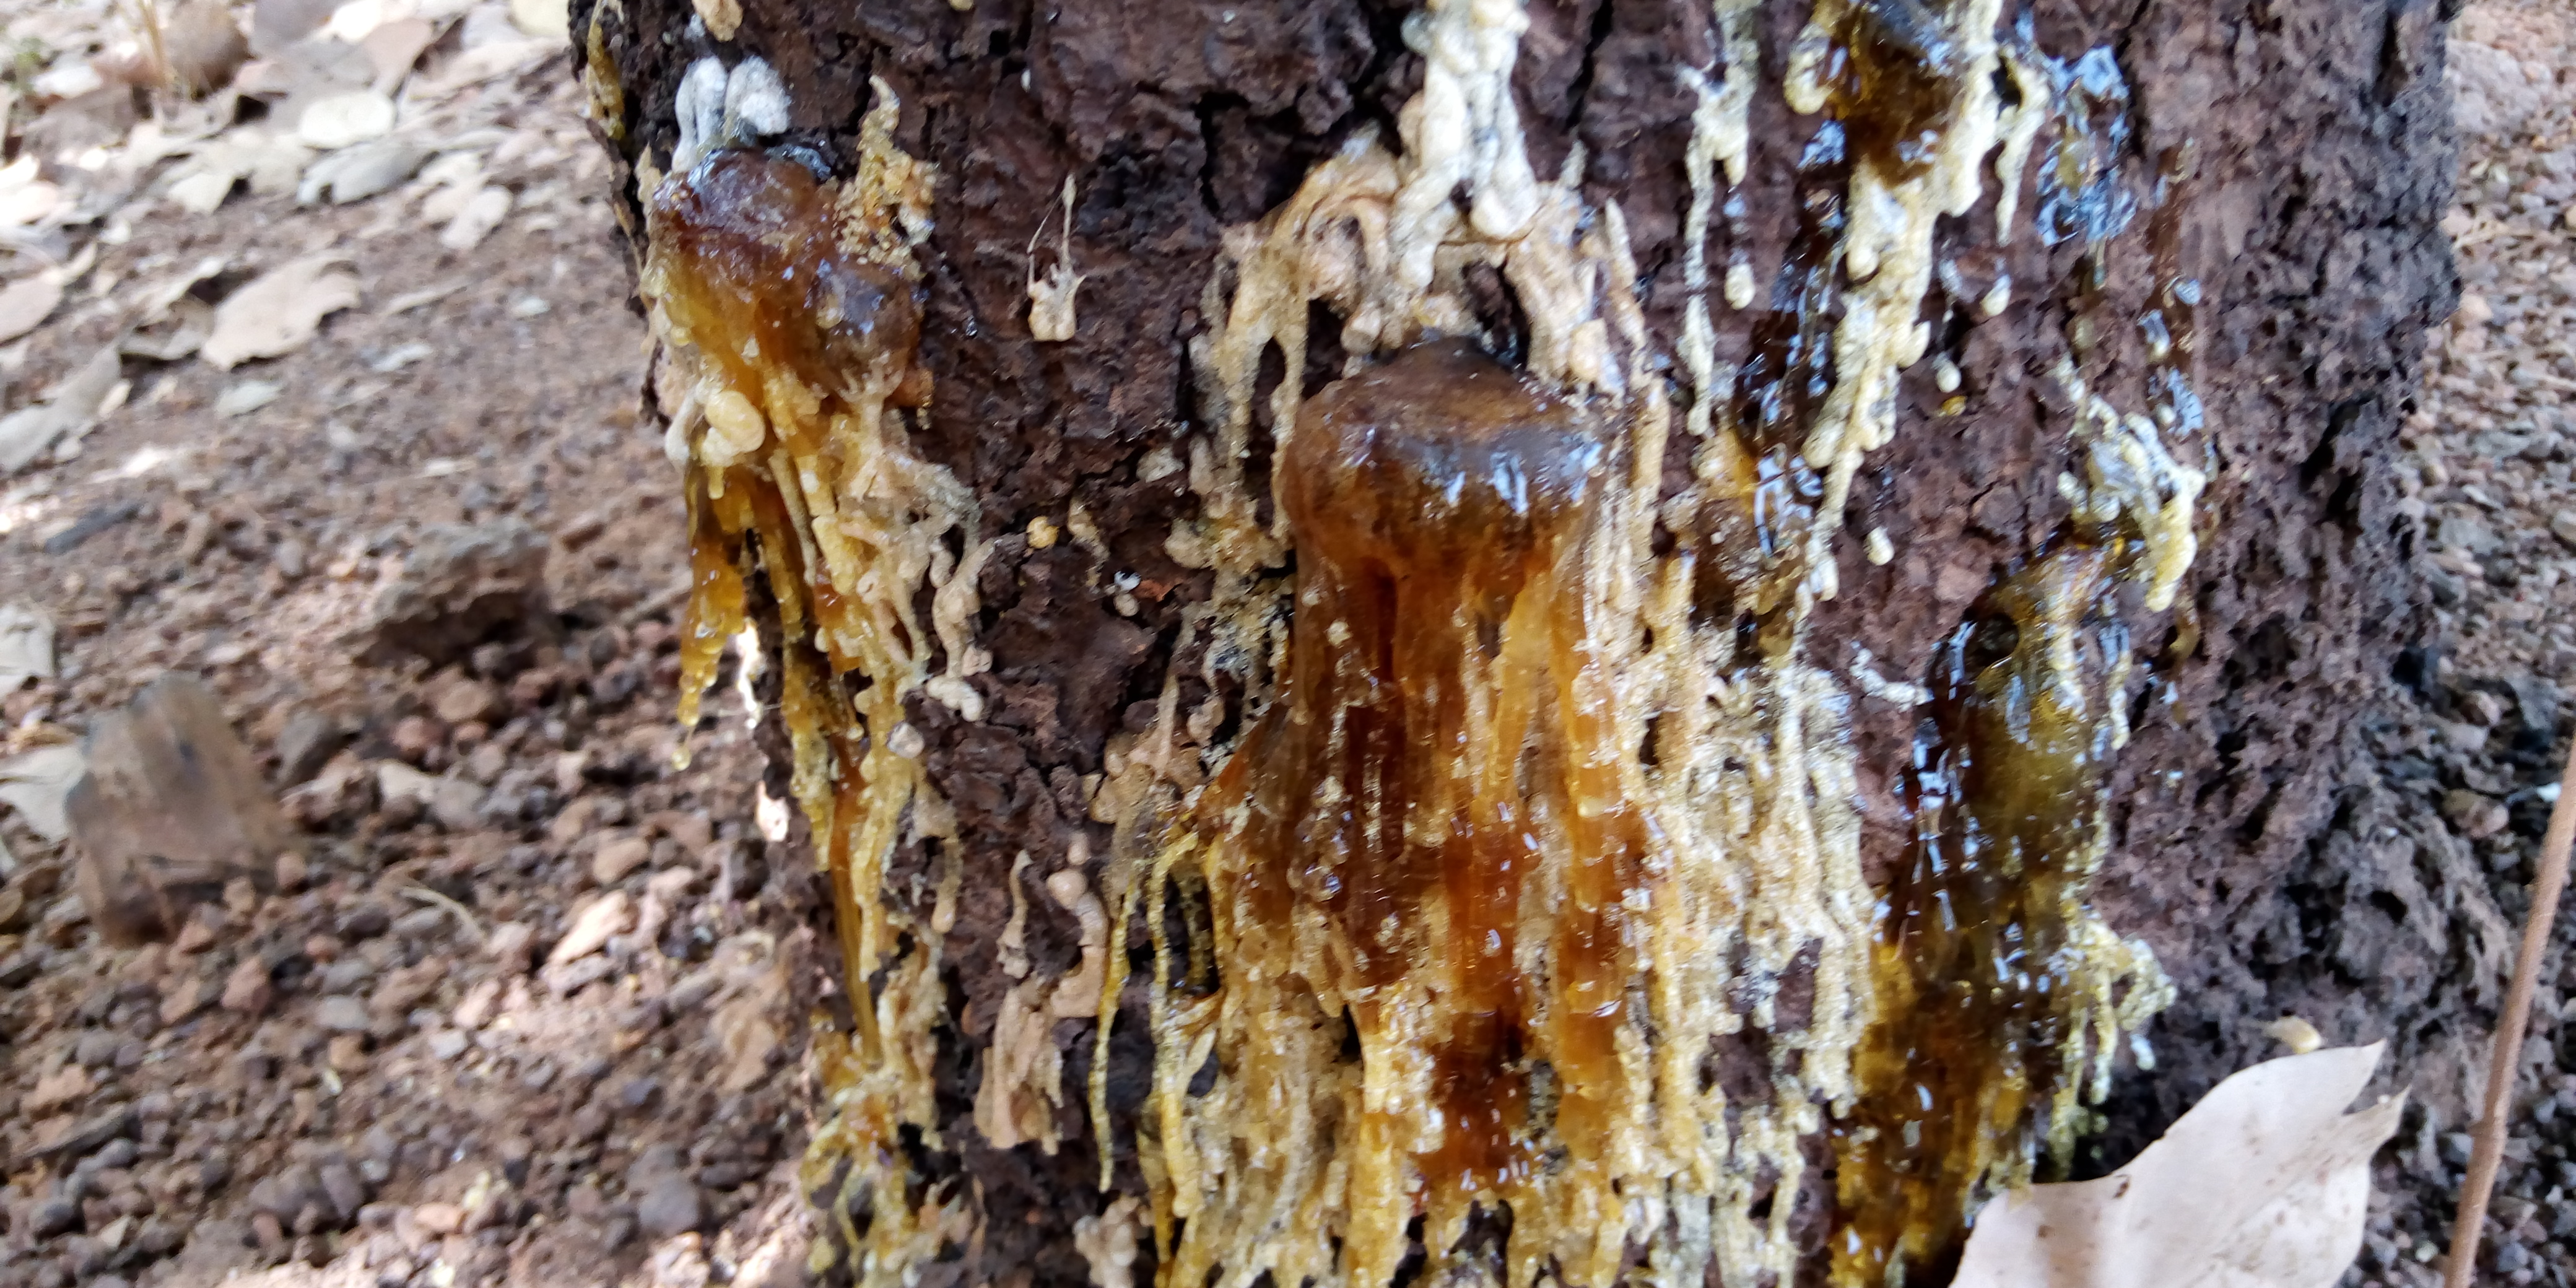Gommose: (1235, 56, 1700, 1288), (1822, 7, 2126, 1288), (624, 128, 981, 966)
